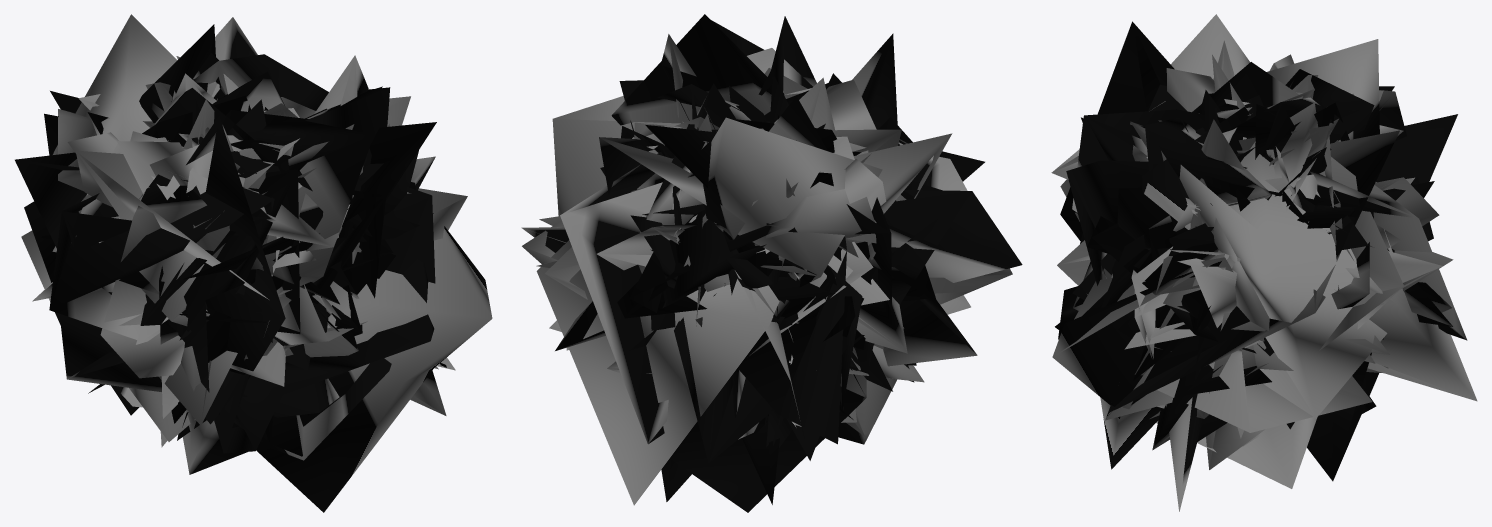
File: stars.gltf
3 views of the same model, side by side, from view 1: azimuth 30°, elevation 25°; view 2: azimuth 150°, elevation 25°; view 3: azimuth 270°, elevation 25° (orthographic). The views are drawn at different scales.
Visible parts, largest first — view 1: stars; view 2: stars; view 3: stars.
Part boxes in pixels (x1=…): stars: x1=15, y1=14, x2=492, y2=512; stars: x1=521, y1=14, x2=1022, y2=512; stars: x1=1051, y1=14, x2=1477, y2=511.
Bounding box in the file's own units: 60.35 × 58.02 × 55.47.
Materials: 1 (1 with a texture image).
